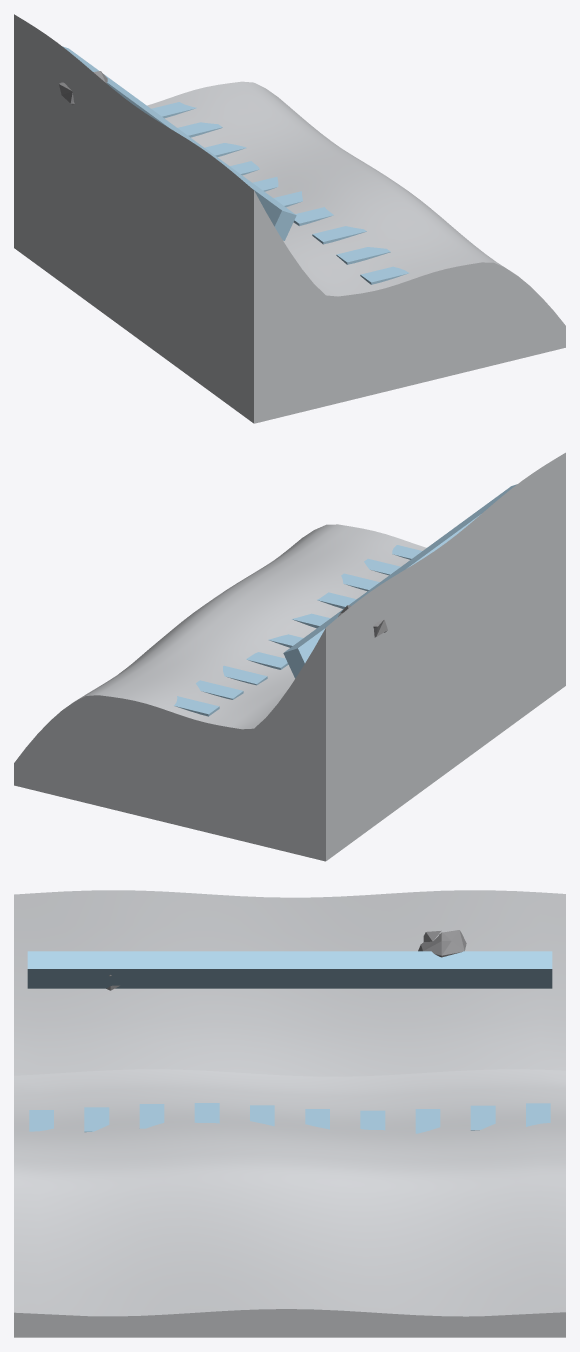
File: backcountry-snowboarding-and-avalanche-safety-cat-trac-a338adc7__18945.glb
3 views of the same model, one above another, from view 1: azimuth 30°, elevation 25°; view 2: azimuth 150°, elevation 25°; view 3: azimuth 270°, elevation 25° (orthographic). The views are drawn at different scales.
Parts seen in each view (by area): view 1: cat-track-bench; view 2: cat-track-bench; view 3: cat-track-bench.
Part boxes in pixels (box(x1,y1,x2,y2)): cat-track-bench: box(14, 14, 565, 423); cat-track-bench: box(14, 452, 565, 861); cat-track-bench: box(14, 890, 565, 1337).
Size of the model in its own units: 3.03 by 2.18 by 4.
